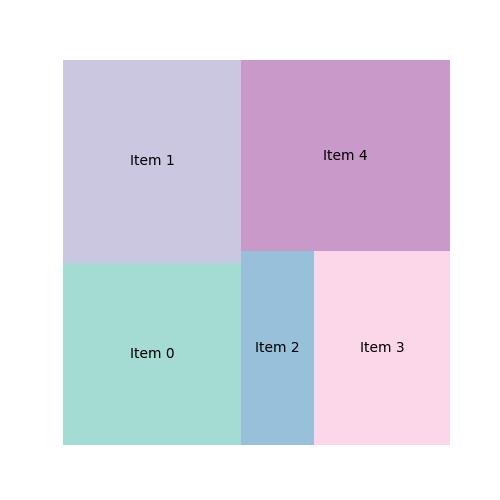rectangle: (241, 61, 451, 252), (62, 60, 241, 265), (63, 264, 241, 446), (312, 250, 451, 446), (240, 251, 314, 445)
